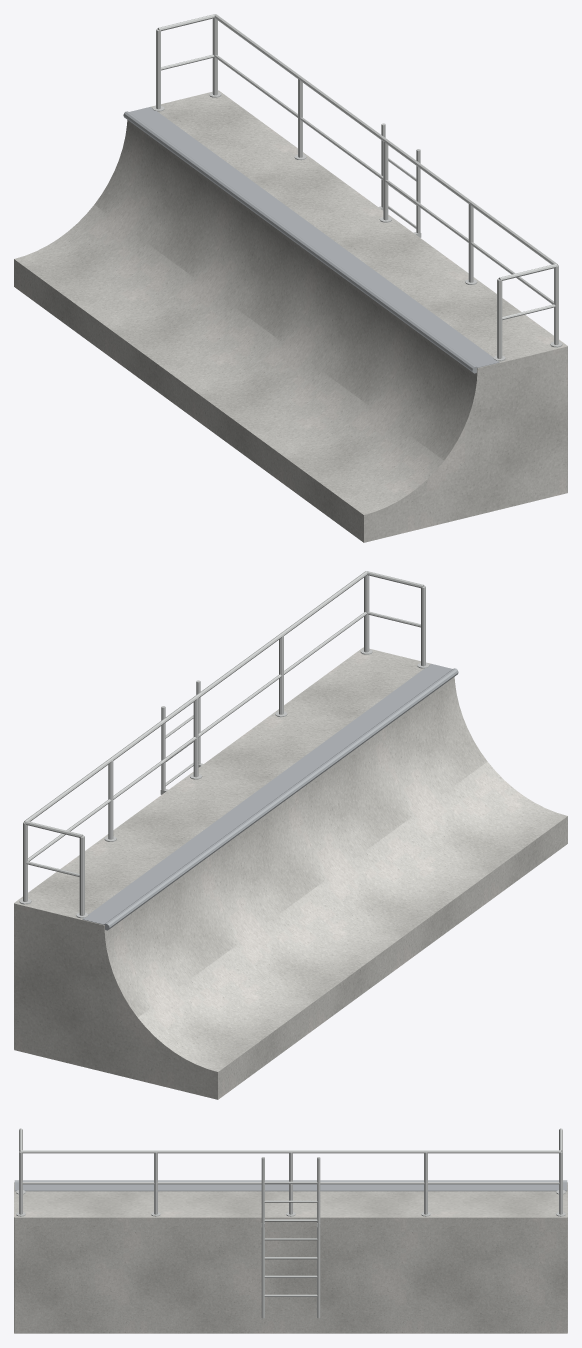
Rendered from quarter_pipe.glb.
The picture shows the model from 3 angles, top to bottom: view 1: azimuth 30°, elevation 25°; view 2: azimuth 150°, elevation 25°; view 3: azimuth 270°, elevation 25°; orthographic projection. The views are drawn at different scales.
Visible parts, largest first — view 1: quarter_pipe_slab, quarter_pipe_steel, quarter_pipe_galv; view 2: quarter_pipe_slab, quarter_pipe_steel, quarter_pipe_galv; view 3: quarter_pipe_slab, quarter_pipe_galv, quarter_pipe_steel.
Part boxes in pixels (bbox=[...]): quarter_pipe_slab: bbox=[14, 90, 567, 542]; quarter_pipe_steel: bbox=[123, 106, 499, 373]; quarter_pipe_galv: bbox=[152, 14, 562, 361]; quarter_pipe_slab: bbox=[14, 647, 567, 1099]; quarter_pipe_steel: bbox=[82, 663, 458, 930]; quarter_pipe_galv: bbox=[19, 571, 429, 918]; quarter_pipe_slab: bbox=[14, 1182, 567, 1333]; quarter_pipe_galv: bbox=[16, 1128, 565, 1318]; quarter_pipe_steel: bbox=[14, 1180, 567, 1191].
Bounding box in the file's own units: 2.83 × 2.87 × 8.
3 materials, 1 textured.
